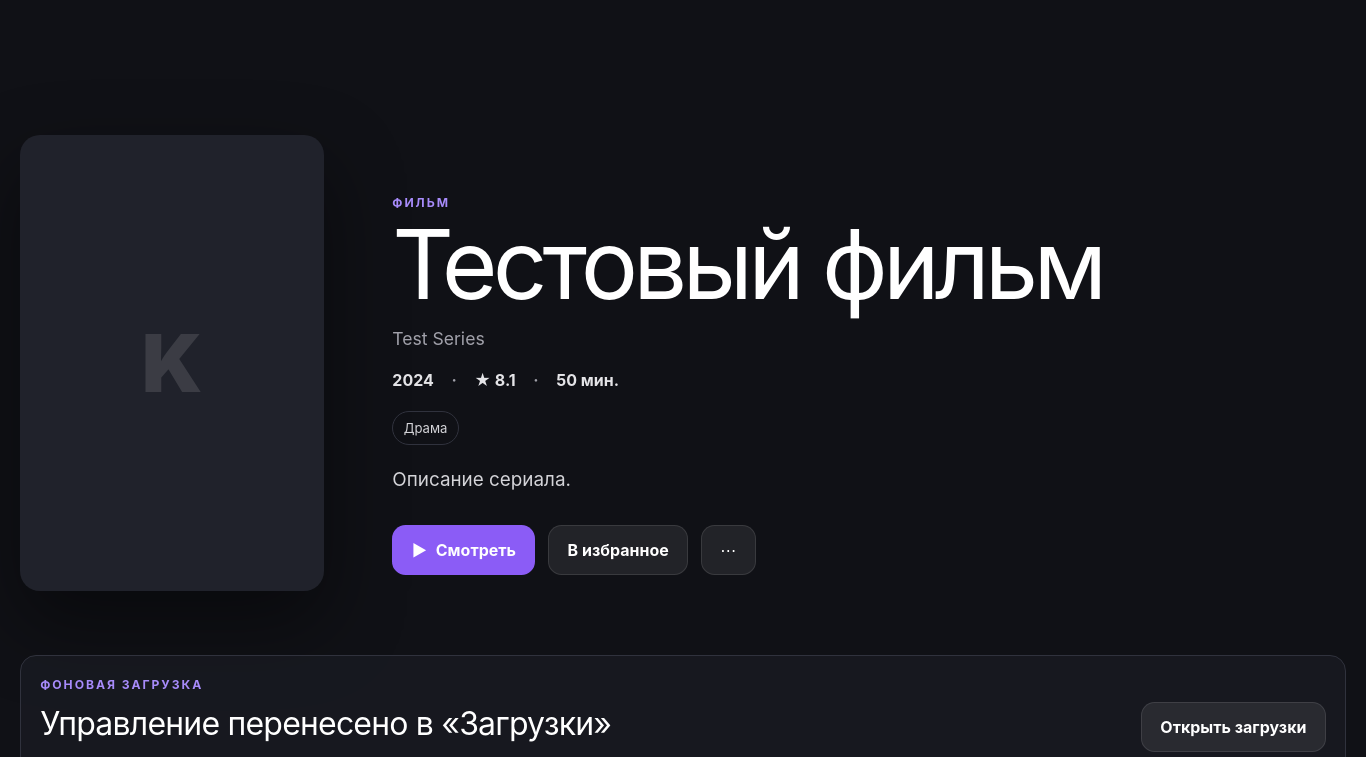
Test: uses the same backend resolver for the movie primary action
The image size is (1366, 757).
Click the button "▶ Смотреть" at (464, 550), box [392,525,535,575]
(page scrolled)
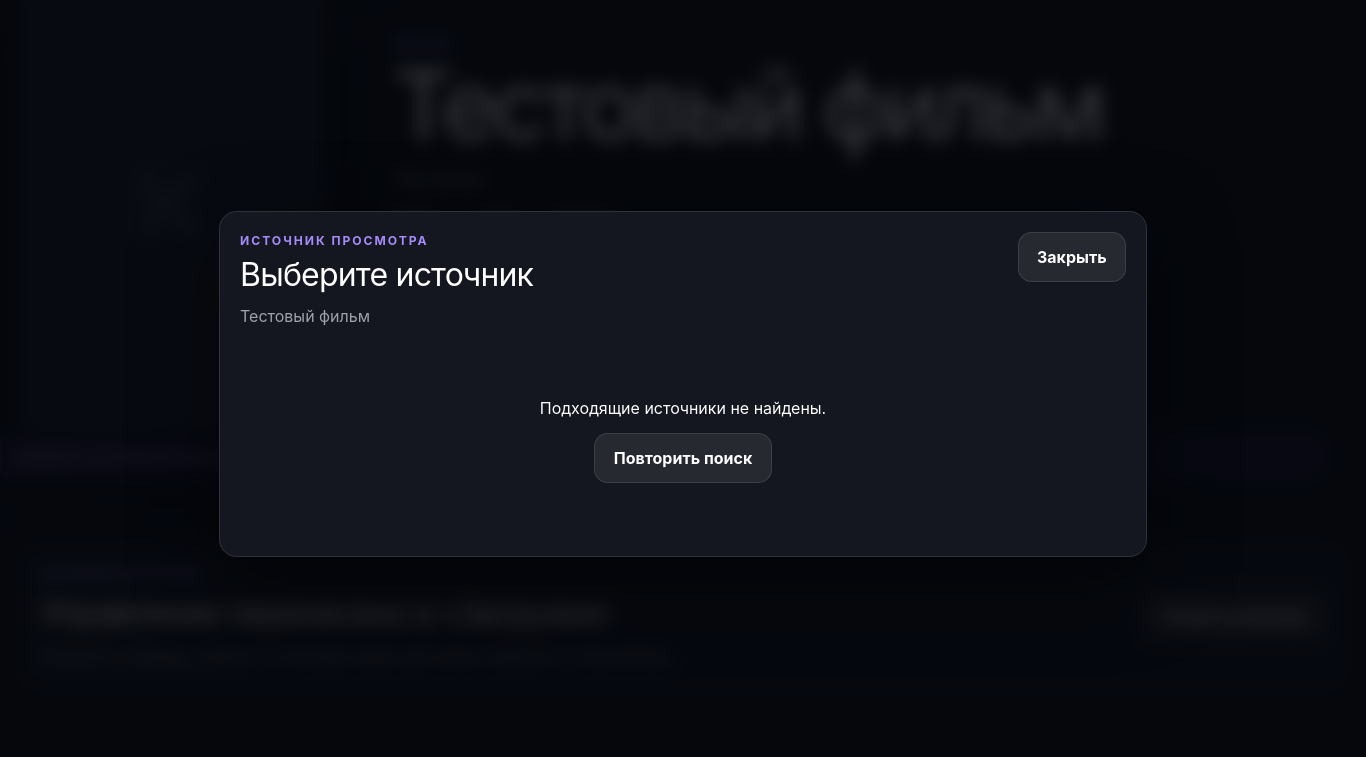
Now the text "Выберите источник для начала просмотра. Окно выбора источника открыто." is shown, box [0,432,1326,481]
Now the dialog "Выберите источник" is shown, box [219,212,1147,556]
